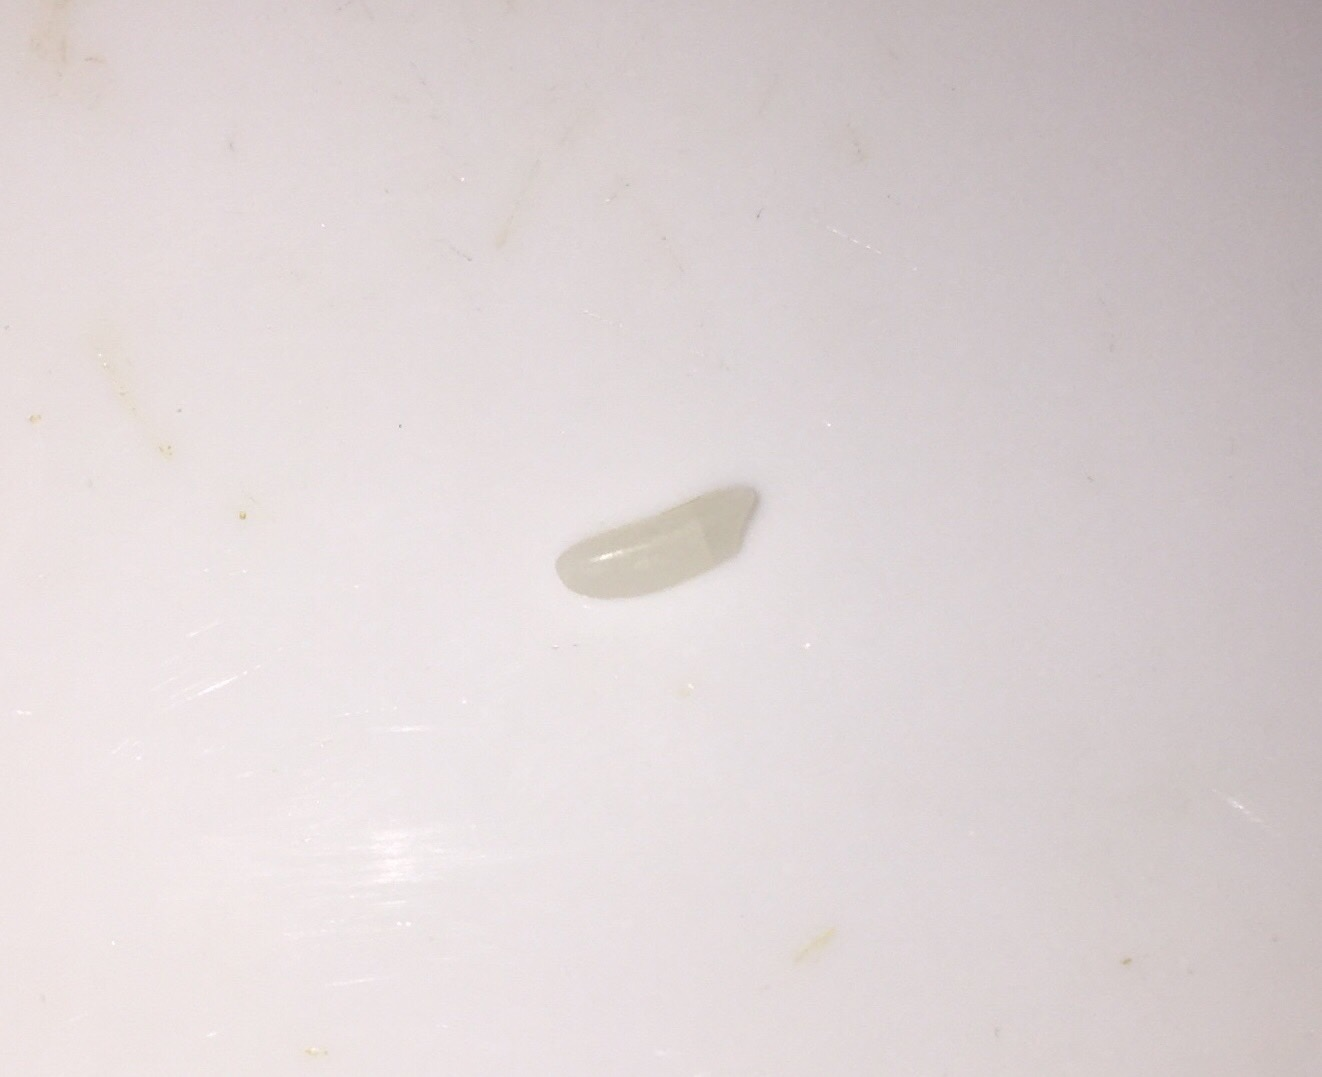Gao Ngoc Troi: (551, 470, 774, 607)
